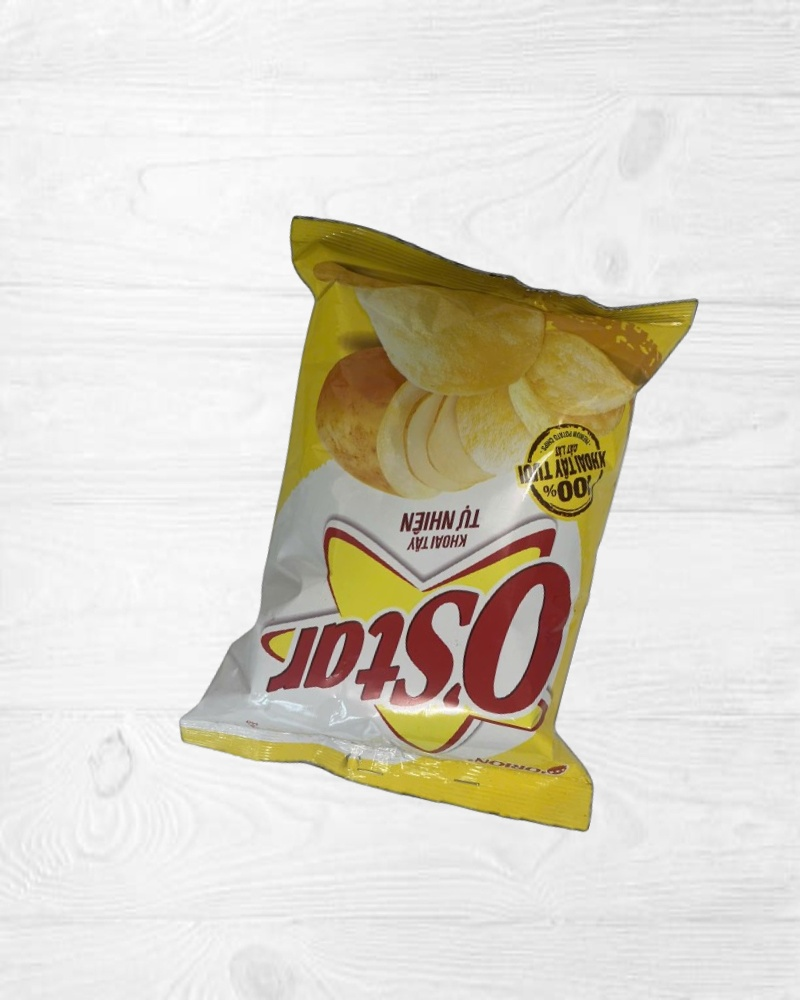Snack cua: (161, 201, 724, 843)
